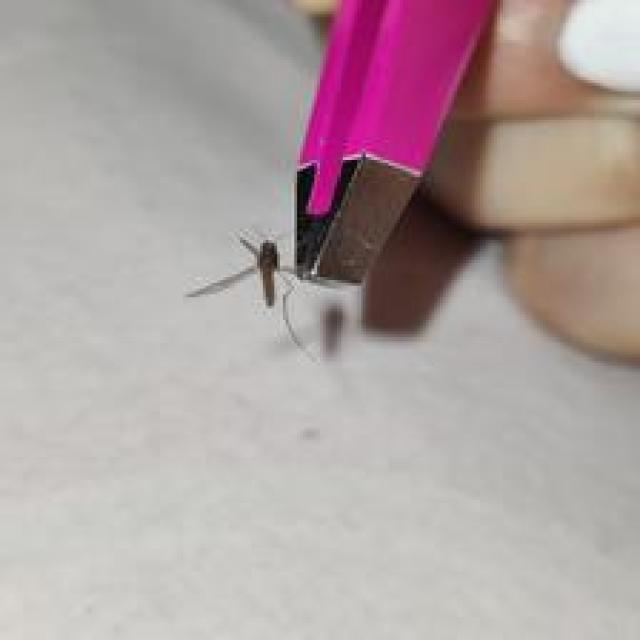Culex: (183, 0, 640, 369)
